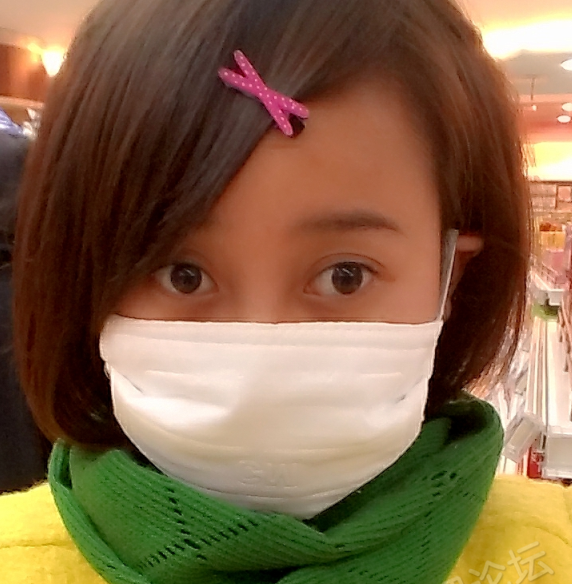face_mask: (97, 99, 443, 513)
